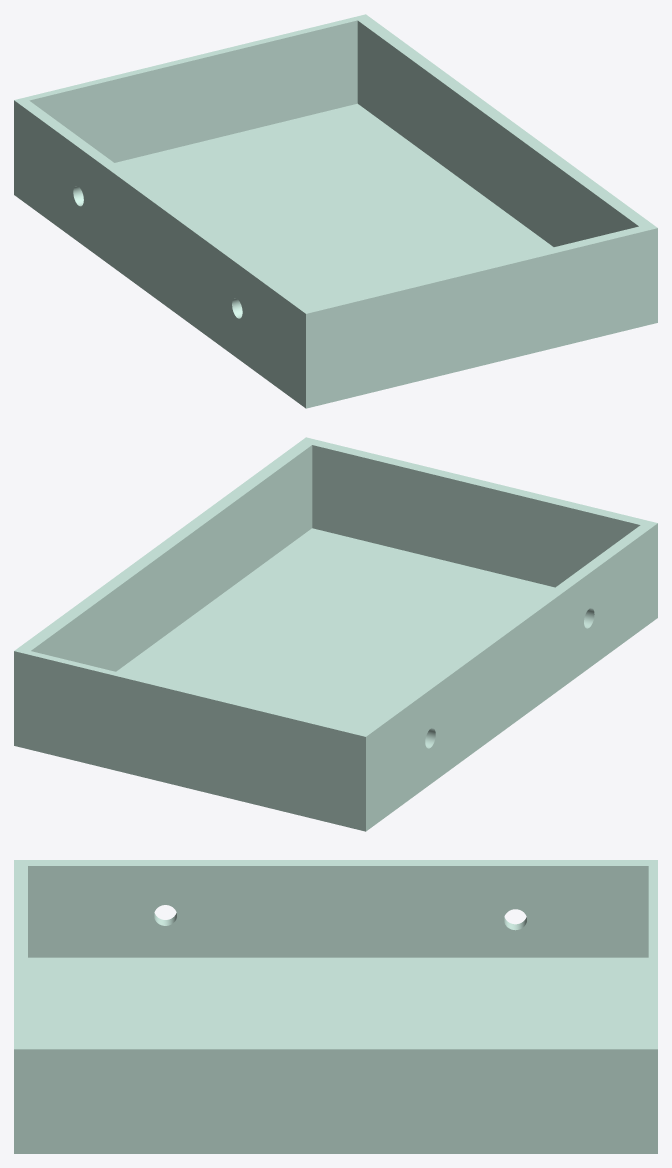
3 renders of one model, top to bottom at view 1: azimuth 30°, elevation 25°; view 2: azimuth 150°, elevation 25°; view 3: azimuth 270°, elevation 25°, orthographic. The views are drawn at different scales.
Parts seen in each view (by area): view 1: Renderer Node; view 2: Renderer Node; view 3: Renderer Node.
Boxes of the visible parts, box(x1,y1,x2,y2) form: Renderer Node: box(14, 14, 657, 408); Renderer Node: box(14, 437, 657, 831); Renderer Node: box(14, 860, 657, 1153).
Size of the model in its own units: 0.75 by 0.1929 by 1.08.
